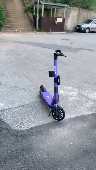beam: (38, 49, 70, 122)
